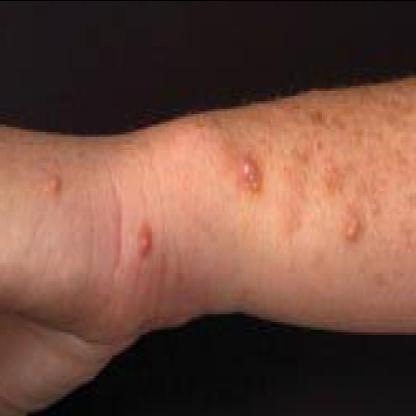Fire ant: (238, 148, 271, 200), (136, 220, 158, 264), (342, 209, 368, 246), (322, 170, 348, 198), (43, 172, 68, 200)
